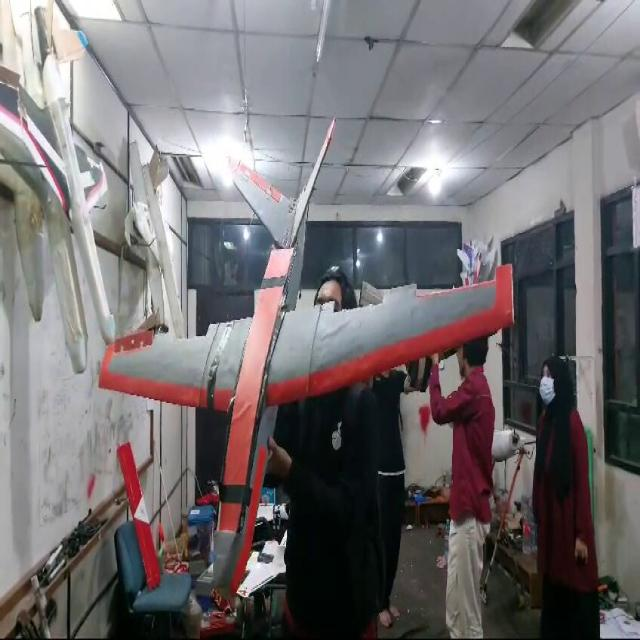plane: (97, 113, 515, 614)
